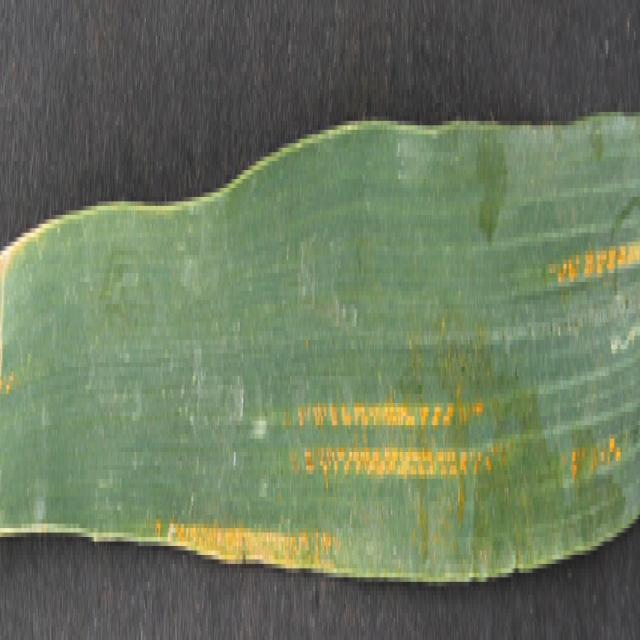leaf rust: (154, 340, 496, 573), (552, 210, 640, 497)
